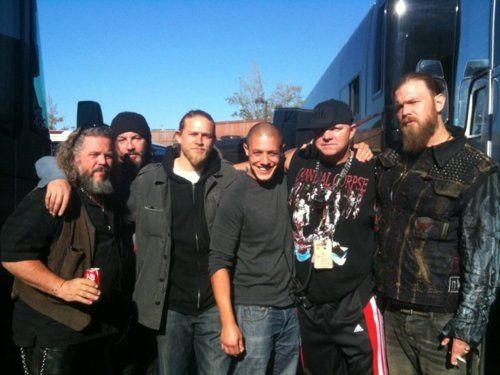bad: (386, 89, 429, 132), (181, 122, 217, 158), (245, 142, 281, 178), (81, 142, 117, 178)
